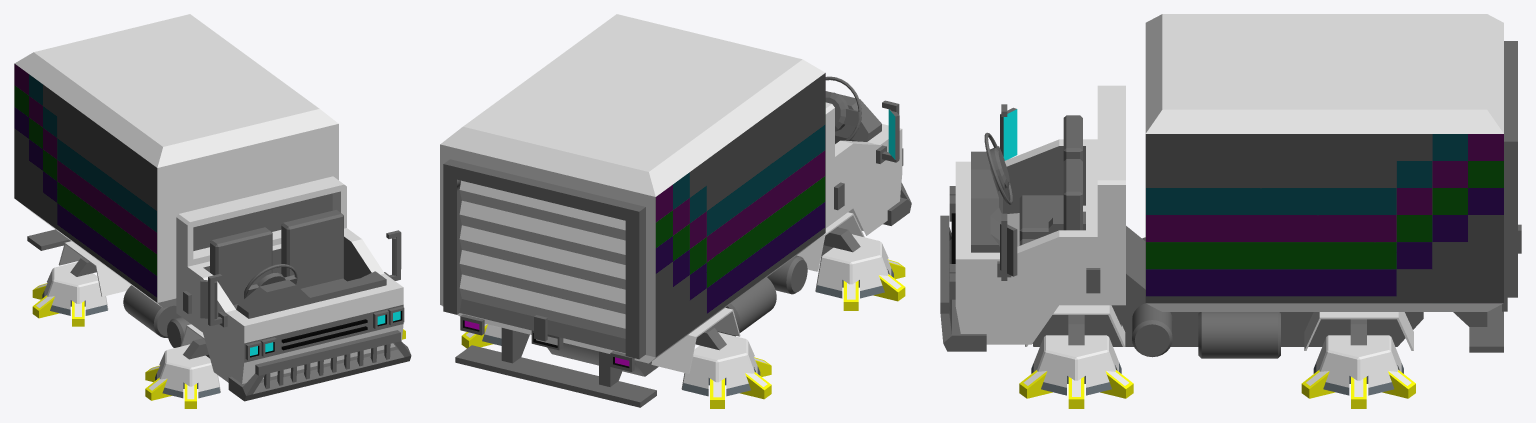
Rendered from vehicle_truck_hover.fbx.
3 views of the same model, side by side, from view 1: azimuth 30°, elevation 25°; view 2: azimuth 150°, elevation 25°; view 3: azimuth 270°, elevation 25° (orthographic). The views are drawn at different scales.
Visible parts, largest first — view 1: vehicle_truck_hover, cab1, chair_back (×2), cab2, front_grill (×2), carriage, door (×2), dash_driver (×2), polySurface52, polySurface49, door_deets (×2), polySurface50 (×2) (+4 smaller); view 2: vehicle_truck_hover, rear_door, carriage (×2), door, polySurface52, polySurface49, cab1, polySurface50 (×2), door_deets, dash_driver, steering_handles, hover_wheels1 (+2 smaller); view 3: vehicle_truck_hover, carriage (×2), door (×2), cab2, polySurface51 (×2), rear_door, polySurface50 (×2), cab1, dash_driver (×2), door_deets (×2), front_grill (×2), chair_back (×2) (+3 smaller).
Boxes of the visible parts, x1,y1,x2,y2 form: vehicle_truck_hover: (14,14,338,308); cab1: (176,195,323,383); chair_back (×2): (210,210,343,304); cab2: (256,176,403,363); front_grill (×2): (228,330,411,401); carriage: (27,229,209,358); door (×2): (187,228,390,378); dash_driver (×2): (236,271,386,318); polySurface52: (155,344,220,398); polySurface49: (42,262,108,315); door_deets (×2): (183,230,401,327); polySurface50 (×2): (32,283,196,408); vehicle_truck_hover: (440,14,825,363); rear_door: (443,159,645,359); carriage (×2): (455,212,864,407); door: (835,137,887,231); polySurface52: (815,234,893,298); polySurface49: (681,332,760,396); cab1: (825,102,902,235); polySurface50 (×2): (710,259,905,408); door_deets: (834,100,899,210); dash_driver: (825,91,881,143); steering_handles: (825,92,861,131); hover_wheels1: (823,227,860,252); vehicle_truck_hover: (1145,14,1503,311); carriage (×2): (1025,211,1507,358); door (×2): (987,139,1097,339); cab2: (955,133,1125,344); polySurface51 (×2): (1031,335,1403,395); rear_door: (1504,41,1517,297); polySurface50 (×2): (1019,370,1415,408); cab1: (955,85,1125,246); dash_driver (×2): (971,151,1002,252); door_deets (×2): (997,104,1100,293); front_grill (×2): (940,215,986,351); chair_back (×2): (1063,115,1082,230).
Size of the model in its own units: 666 by 536 by 1048.
Materials: 8 (1 with a texture image).
